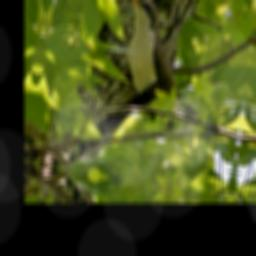Cuckoo: (105, 0, 213, 136)
